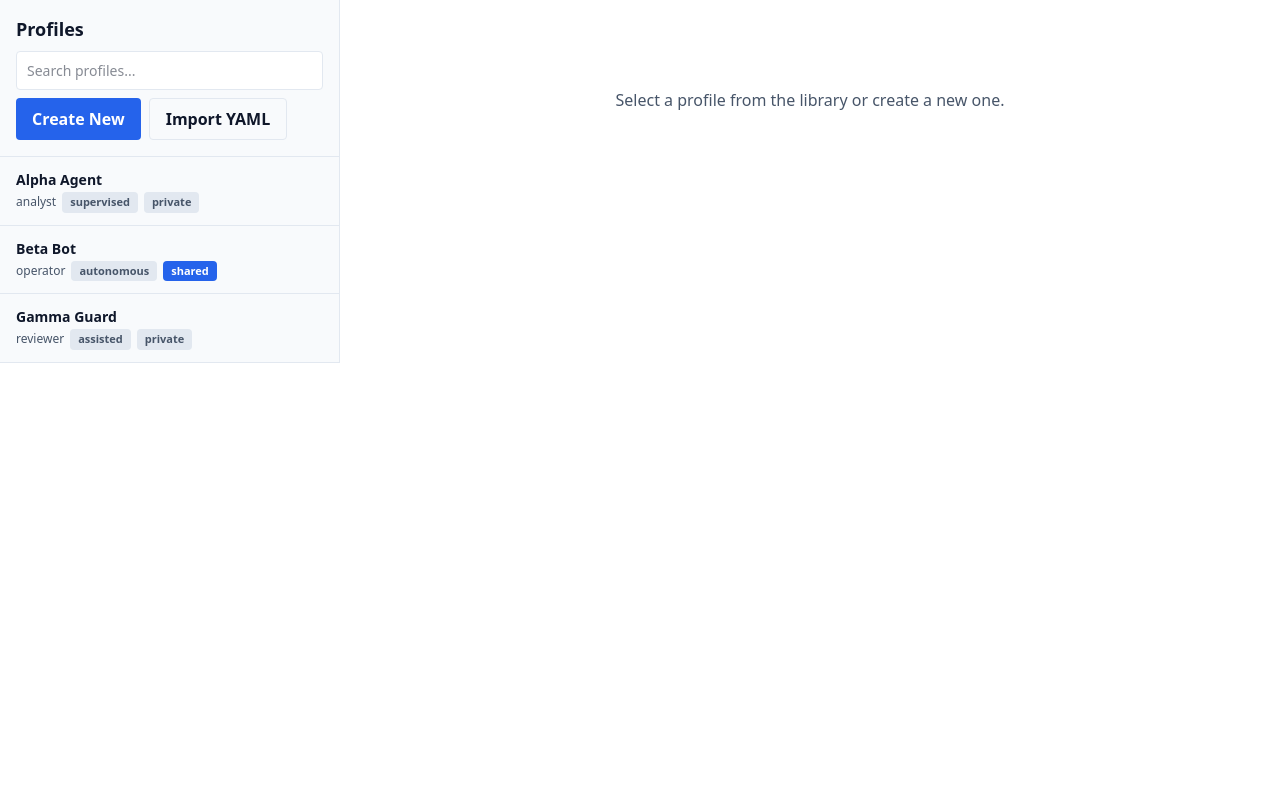
Scenario: ProfilesPage — delete flow › shows confirmation dialog when Delete is clicked
This screenshot has width=1280, height=800.
Click the text "Alpha Agent" at point(59, 180), box [16,170,102,189]
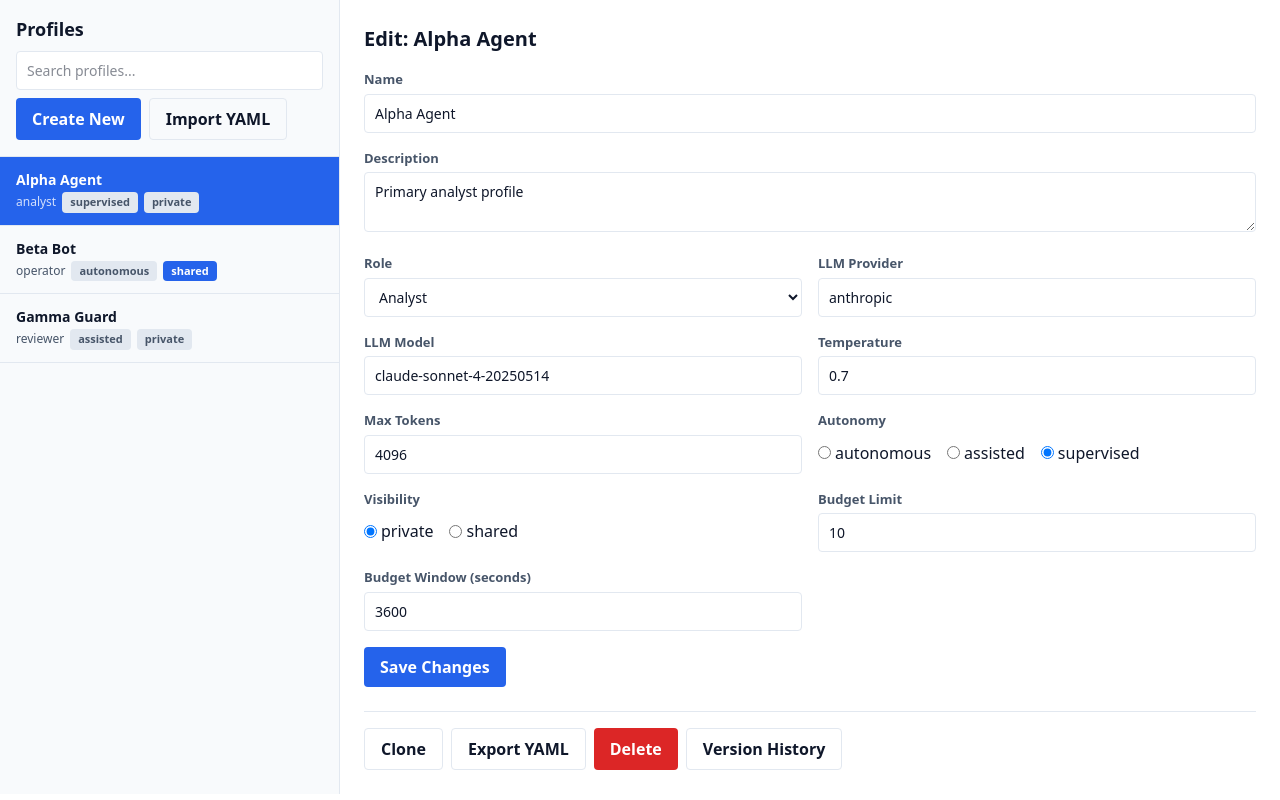
expect the button "Delete" is shown: met
Click the button "Delete" at point(636, 748), box [594,728,678,770]
(page scrolled)
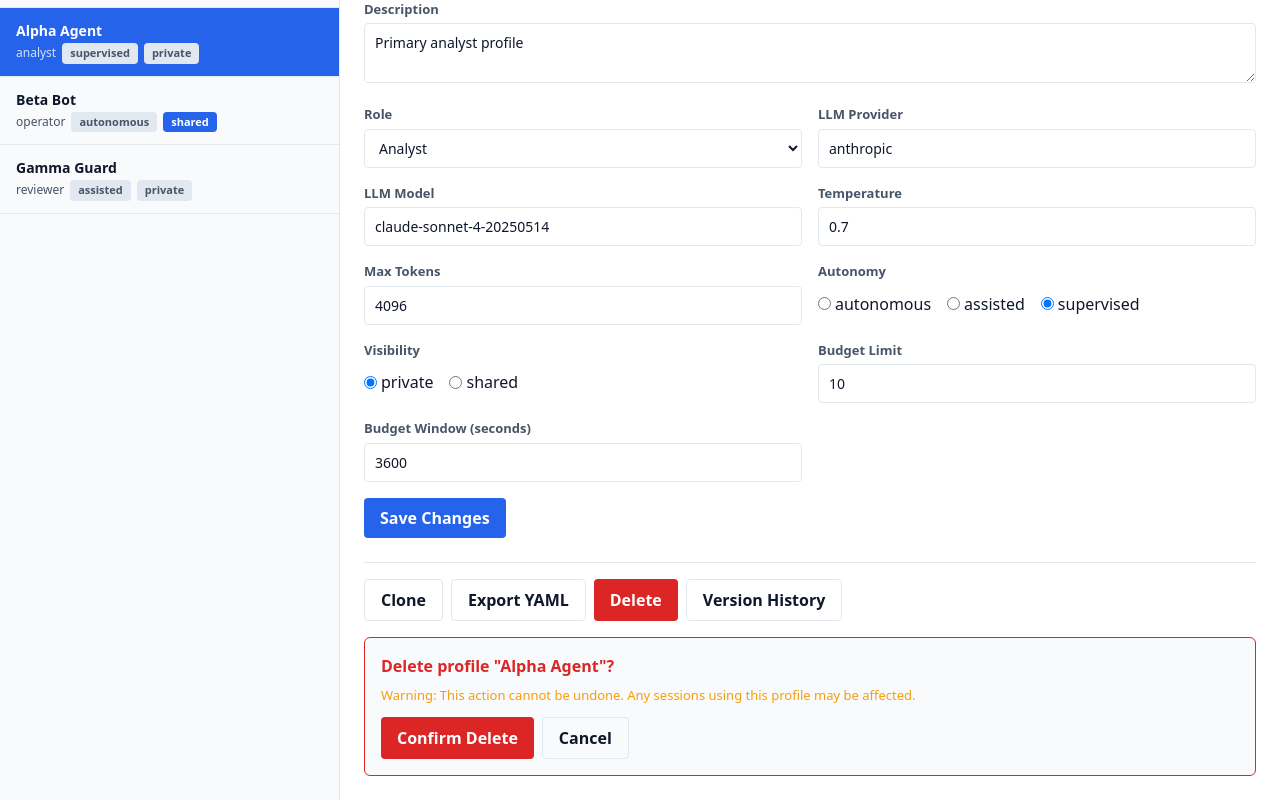
expect the text "Delete profile \"Alpha Agent\"?" is shown: met, box [381,654,614,676]
expect the button "Confirm Delete" is shown: met, box [381,717,534,759]
expect the button "Cancel" is shown: met, box [542,717,629,759]
